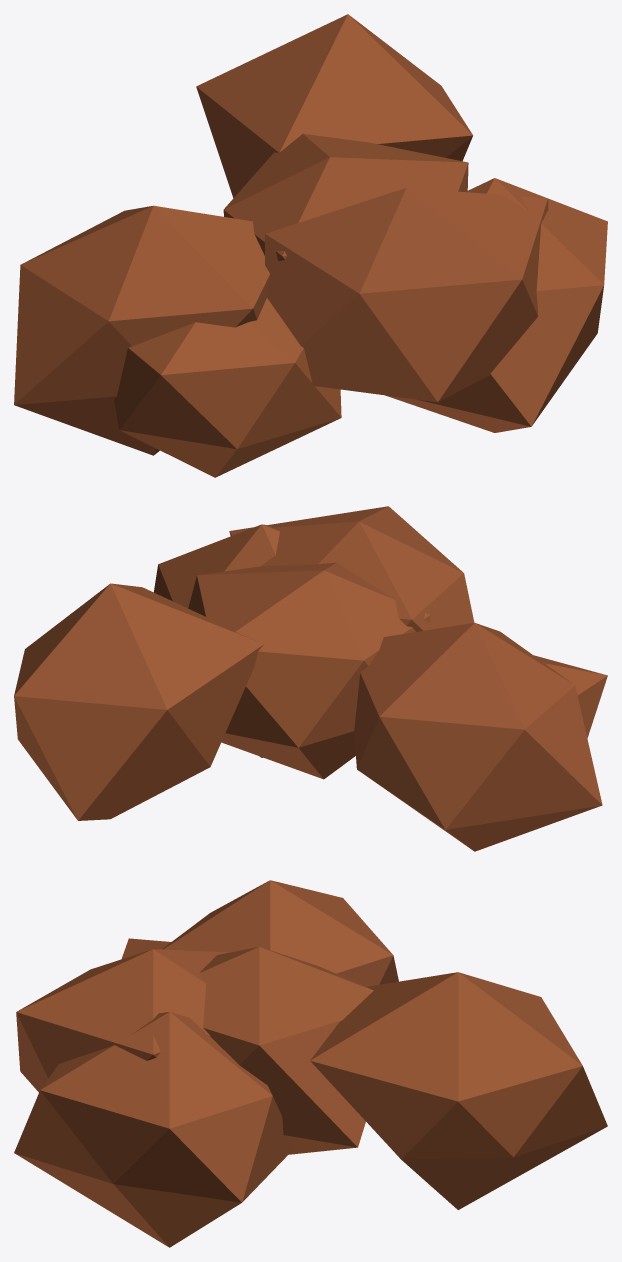
File: bush_b.fbx
3 views of the same model, one above another, from view 1: azimuth 30°, elevation 25°; view 2: azimuth 150°, elevation 25°; view 3: azimuth 270°, elevation 25° (orthographic). The views are drawn at different scales.
Parts seen in each view (by area): view 1: bush_b; view 2: bush_b; view 3: bush_b.
Part boxes in pixels (x1,y1,x2,y2): bush_b: [14, 14, 607, 477]; bush_b: [14, 506, 607, 851]; bush_b: [14, 880, 607, 1247].
Size of the model in its own units: 472 by 253 by 487.
